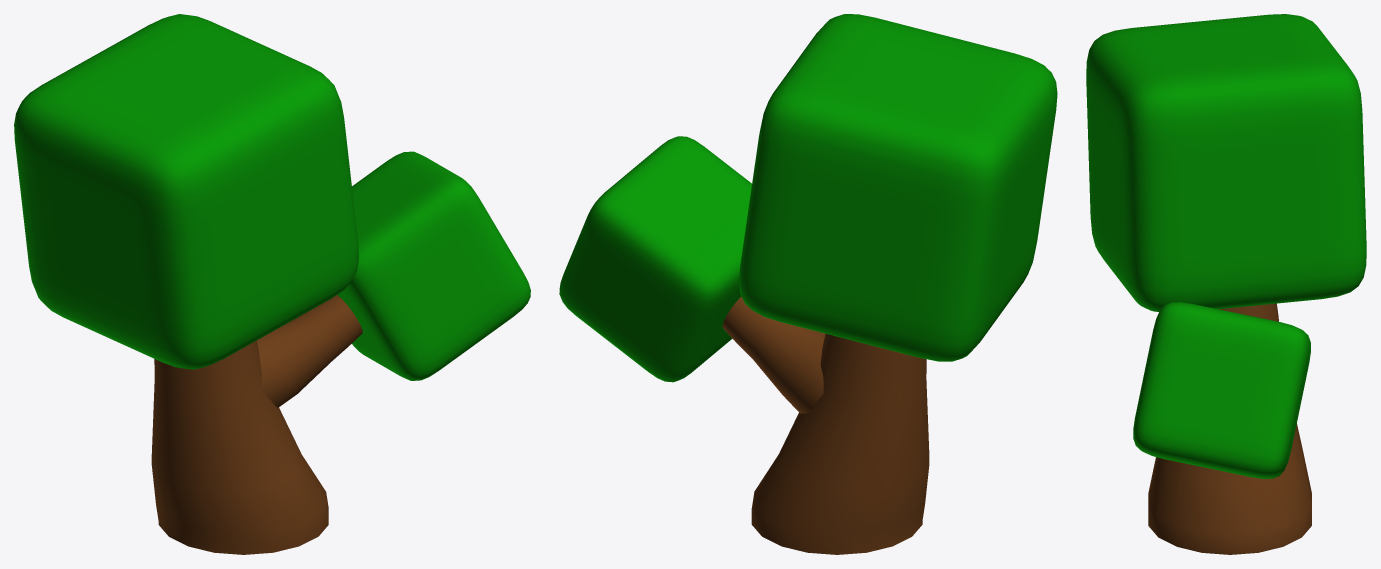
The model's file is low_tree.fbx.
3 views of the same model, side by side, from view 1: azimuth 30°, elevation 25°; view 2: azimuth 150°, elevation 25°; view 3: azimuth 270°, elevation 25° (orthographic). The views are drawn at different scales.
Visible parts, largest first — view 1: Box001_low, Cylinder002_low; view 2: Box001_low, Cylinder002_low; view 3: Box001_low, Cylinder002_low.
Part boxes in pixels (left/top/right/bottom): Box001_low: left=14, top=14, right=530, bottom=380; Cylinder002_low: left=151, top=295, right=362, bottom=554; Box001_low: left=559, top=14, right=1057, bottom=382; Cylinder002_low: left=722, top=296, right=929, bottom=554; Box001_low: left=1086, top=14, right=1366, bottom=478; Cylinder002_low: left=1148, top=303, right=1311, bottom=554.
Bounding box in the file's own units: 133 × 132 × 74.99.
